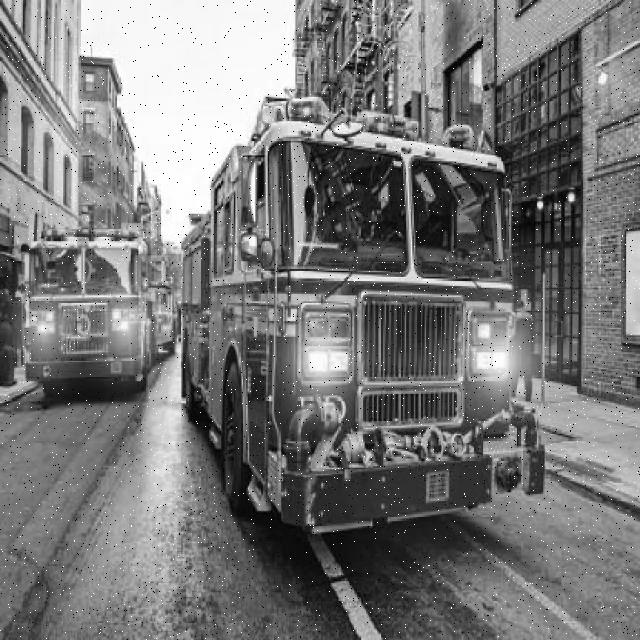Fire Truck: (181, 97, 546, 533)
